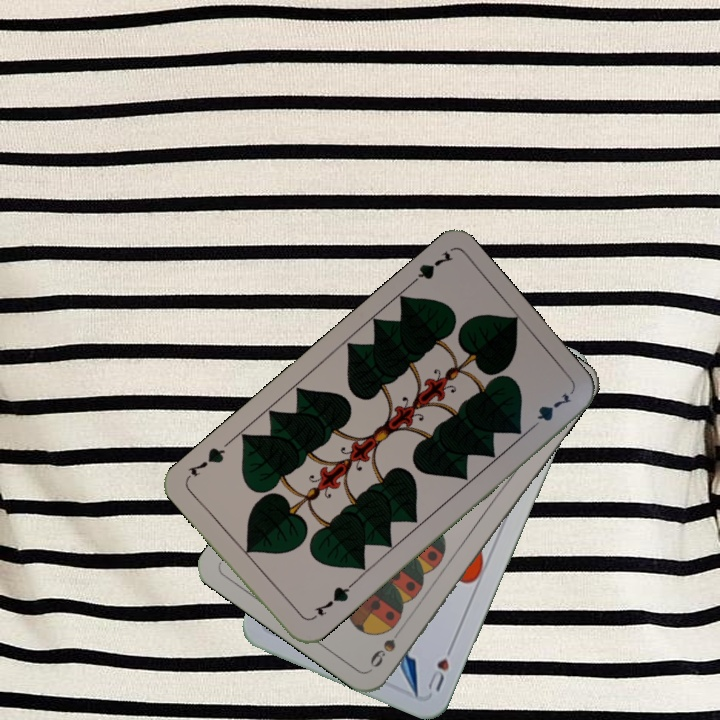G7: (403, 246, 456, 291), (306, 580, 355, 623)
HU: (424, 639, 457, 694)
S9: (365, 620, 407, 670)
